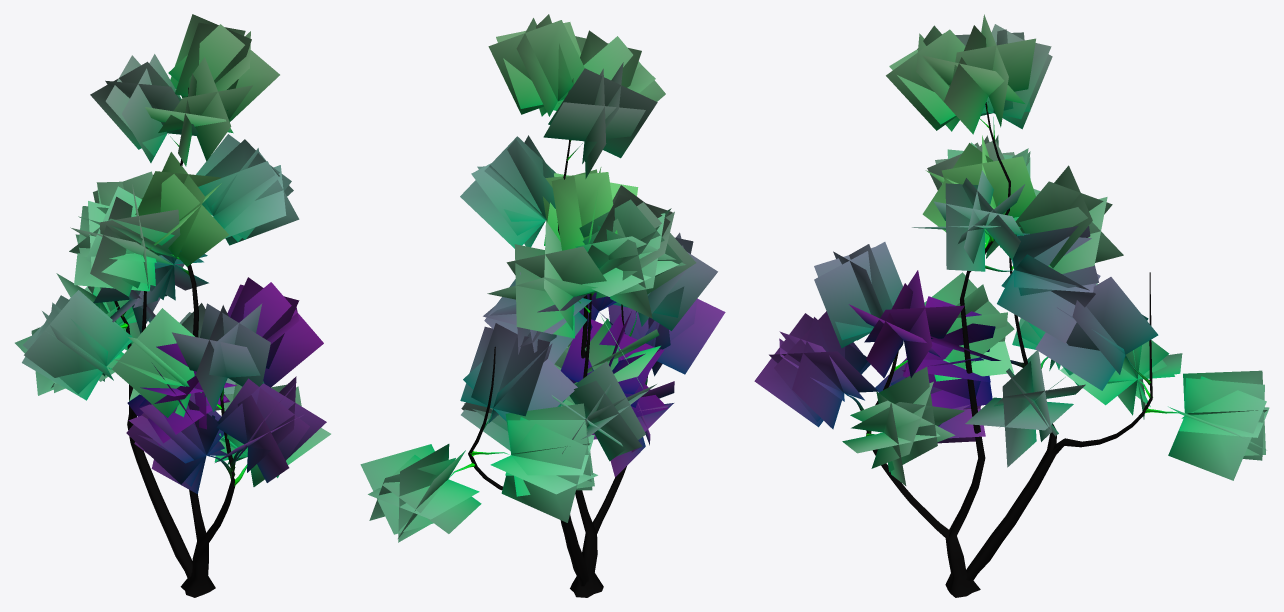
Rendered from M_P6_Tree_9.fbx.
The picture shows the model from 3 angles, left to right: view 1: azimuth 30°, elevation 25°; view 2: azimuth 150°, elevation 25°; view 3: azimuth 270°, elevation 25°; orthographic projection. The views are drawn at different scales.
Visible parts, largest first — view 1: Tree_9; view 2: Tree_9; view 3: Tree_9.
Boxes of the visible parts, left/top/right/bottom form: Tree_9: left=15, top=14, right=330, bottom=597; Tree_9: left=360, top=14, right=725, bottom=597; Tree_9: left=754, top=14, right=1269, bottom=597.
Bounding box in the file's own units: 486 × 1209 × 970.
